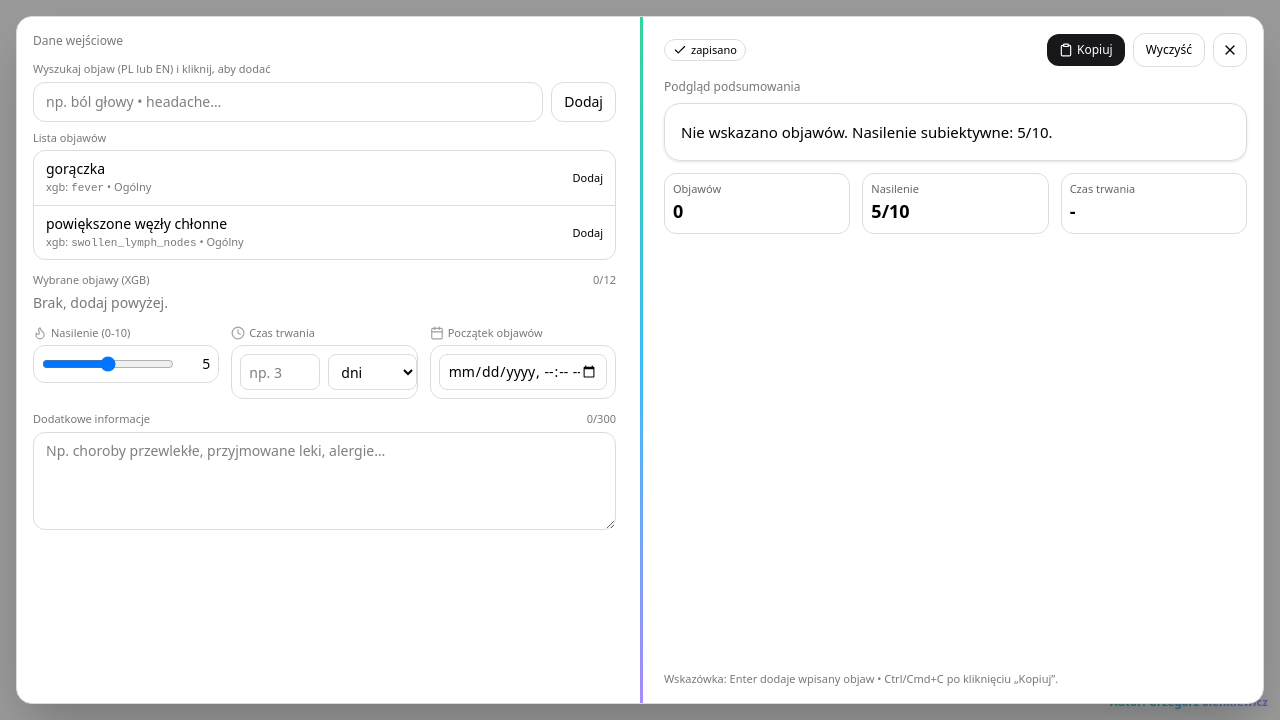
Test case: PrepOverlay: adding symptoms with Enter › a partial name picks the first matching dictionary entry
Expected: the list item titled "Dodaj: powiększone węzły chłonne" is shown, [34,206,615,259]
In the field with placeholder "np. ból głowy • headache…": (288, 102) [33,82,543,122], type "powiększone węzły"
Then press Enter
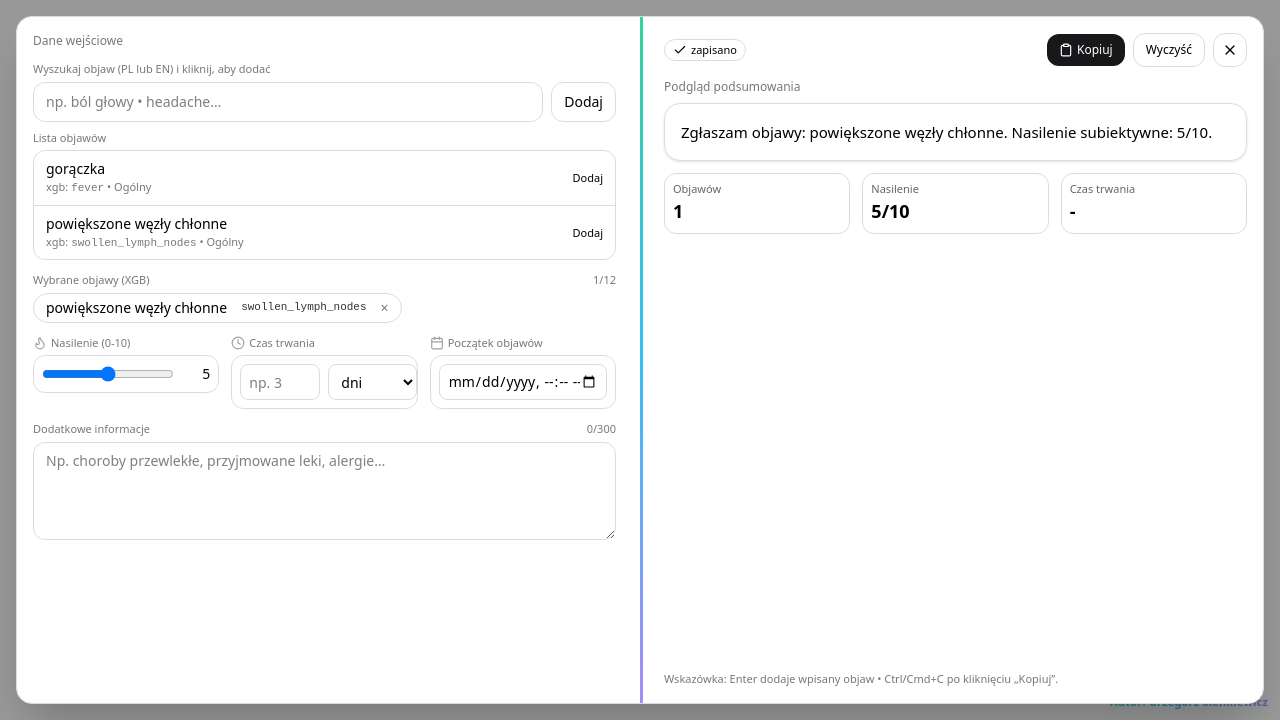
Expected: the text "Zgłaszam objawy: powiększone węzły chłonne." is shown, [681,122,1212,142]
